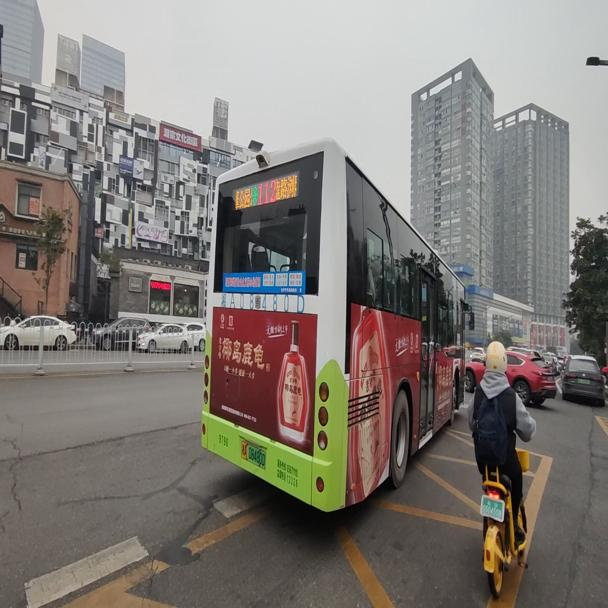bus: (197, 137, 475, 513)
screen: (256, 175, 276, 207)
